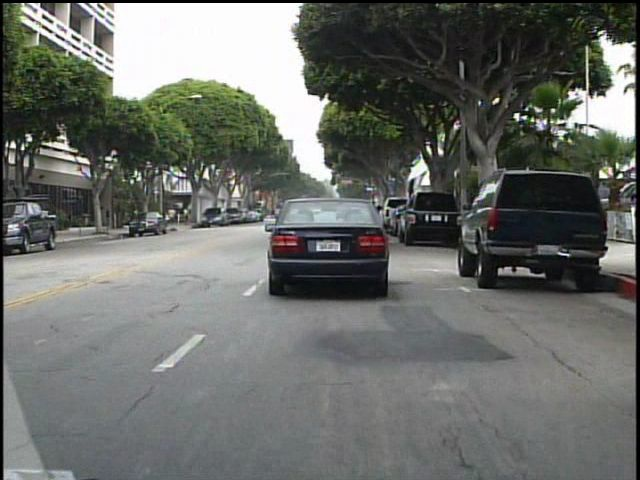person: (182, 203, 195, 229), (170, 205, 179, 225)
